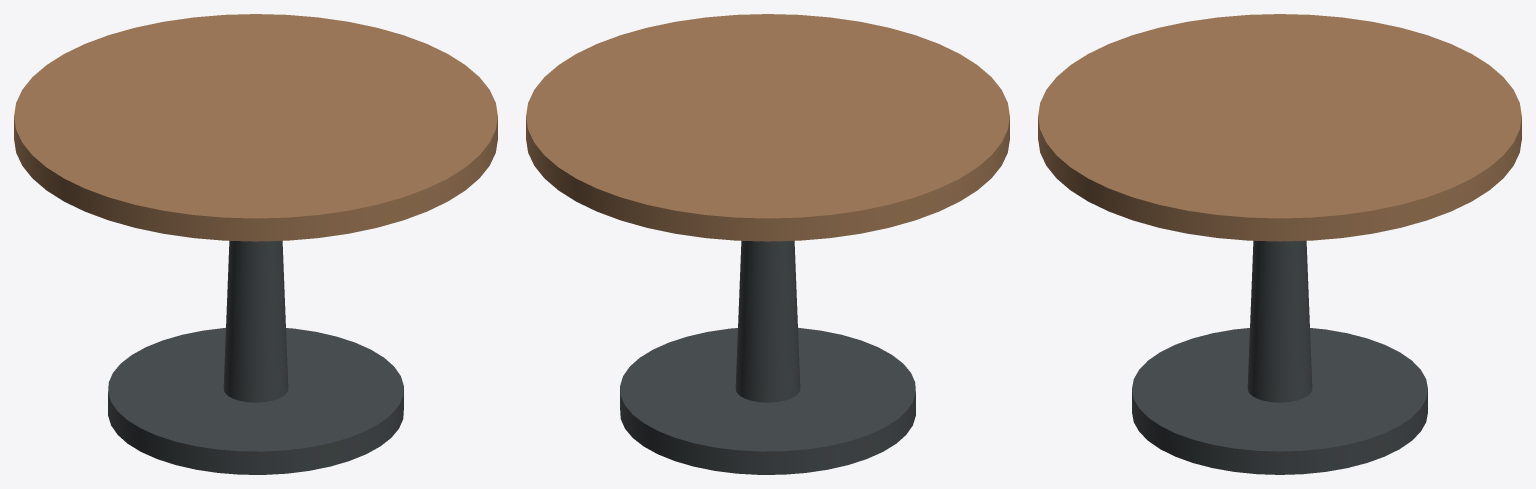
File: table_round_pedestal.glb
3 renders of one model, left to right at view 1: azimuth 30°, elevation 25°; view 2: azimuth 150°, elevation 25°; view 3: azimuth 270°, elevation 25°, orthographic.
Visible parts, largest first — view 1: PedestalTable_Round_Top, PedestalTable_Floor_Base, PedestalTable_Tapered_Column; view 2: PedestalTable_Round_Top, PedestalTable_Floor_Base, PedestalTable_Tapered_Column; view 3: PedestalTable_Round_Top, PedestalTable_Floor_Base, PedestalTable_Tapered_Column.
Part boxes in pixels (<box>): PedestalTable_Round_Top: <box>14,14,497,241</box>; PedestalTable_Floor_Base: <box>108,327,403,474</box>; PedestalTable_Tapered_Column: <box>223,241,288,402</box>; PedestalTable_Round_Top: <box>526,14,1009,241</box>; PedestalTable_Floor_Base: <box>620,327,915,474</box>; PedestalTable_Tapered_Column: <box>735,241,800,402</box>; PedestalTable_Round_Top: <box>1038,14,1521,241</box>; PedestalTable_Floor_Base: <box>1132,328,1427,474</box>; PedestalTable_Tapered_Column: <box>1247,240,1312,402</box>.
Bounding box in the file's own units: 1.16 × 0.7835 × 1.16.
